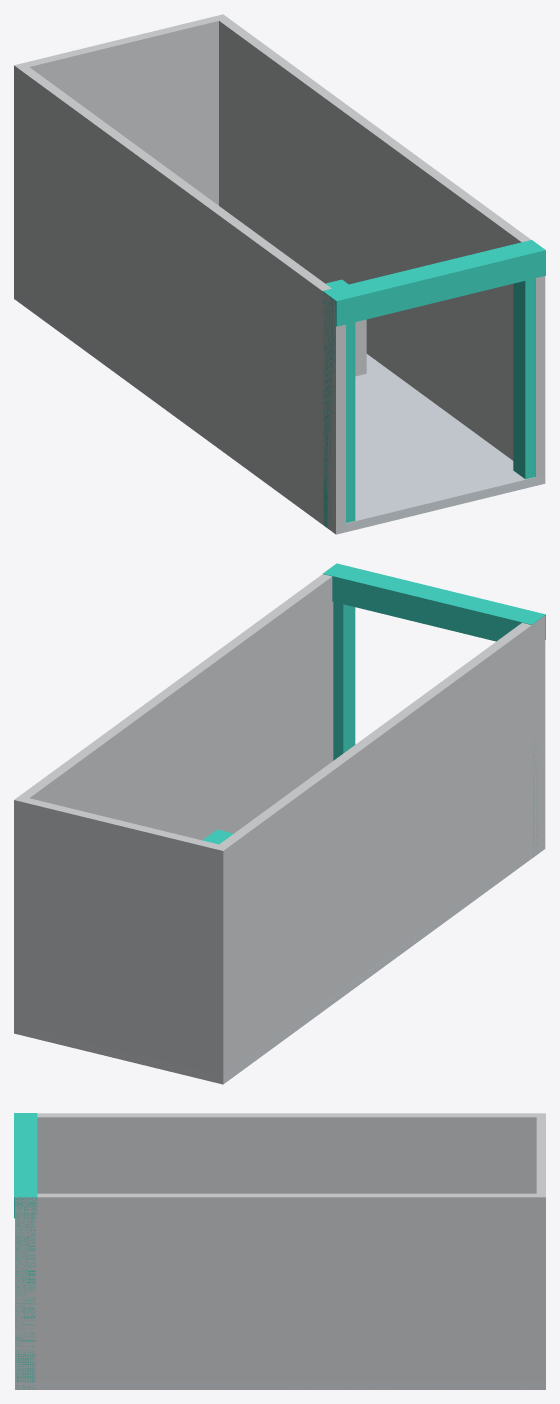
The picture shows the model from 3 angles, top to bottom: view 1: azimuth 30°, elevation 25°; view 2: azimuth 150°, elevation 25°; view 3: azimuth 270°, elevation 25°; orthographic projection. The views are drawn at different scales.
Parts seen in each view (by area): view 1: Exhibition Booth Concept; view 2: Exhibition Booth Concept; view 3: Exhibition Booth Concept.
Boxes of the visible parts, <box> form: Exhibition Booth Concept: <box>14,14,545,534</box>; Exhibition Booth Concept: <box>14,563,545,1084</box>; Exhibition Booth Concept: <box>14,1113,545,1389</box>.
Bounding box in the file's own units: 3 × 3.2 × 8.01.
